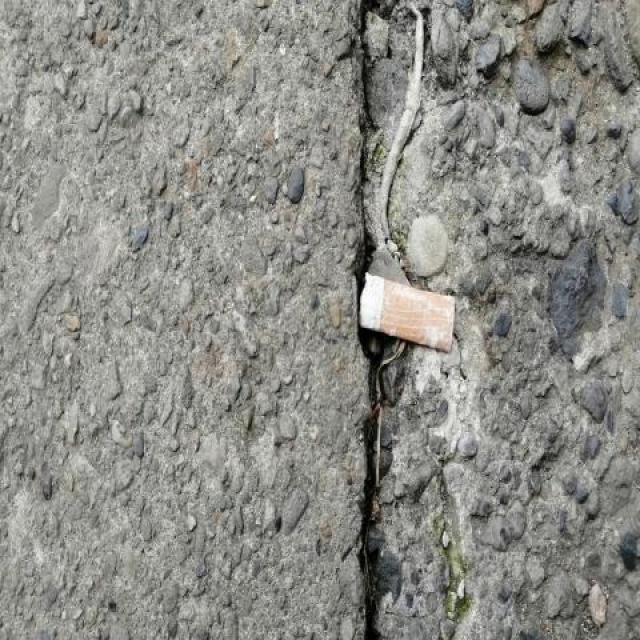non-organic waste: (355, 266, 465, 362)
